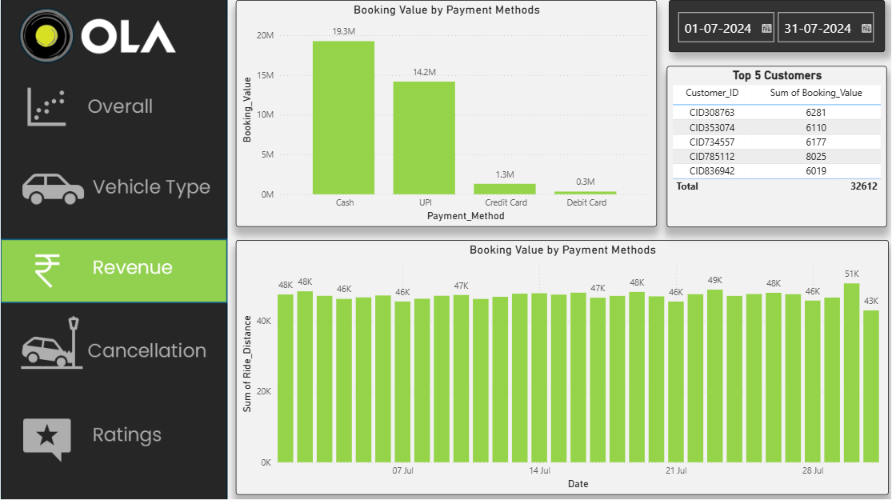

The dashboard page shown, as its layout file describes it:
{"tool":"powerbi","page":{"name":"Revenue","canvas":[1280,720],"ordinal":2},"visuals":[{"type":"actionButton","box":[0,107.4,324.5,91.7],"z":0},{"type":"actionButton","box":[0,219.6,324.5,91.7],"z":1000},{"type":"actionButton","box":[0,448.8,324.5,91.7],"z":2000},{"type":"actionButton","box":[1.2,575.5,324.5,91.7],"z":3000},{"type":"columnChart","title":"Booking Value by Payment Methods","fields":{"Category":["July.Payment_Method"],"Y":["Sum(July.Booking_Value)"]},"box":[335.7,0,601.4,324.3],"z":4000},{"type":"columnChart","title":"Booking Value by Payment Methods","fields":{"Y":["Sum(July.Ride_Distance)"],"Category":["July.Date"]},"box":[335.7,342.9,932.9,364.3],"z":5000},{"type":"slicer","title":"Date","fields":{"Values":["July.Date"]},"box":[954.3,0,308.6,74.3],"z":6000},{"type":"tableEx","title":"Top 5 Customers","fields":{"Values":["July.Customer_ID","Sum(July.Booking_Value)"]},"box":[951.4,94.3,314.3,230],"z":7000}]}

Visuals, with their boxes in screenshot pixels (x1, y1, x2, y2), scaled from the page's 1280x720 canvas onto the 892x500 screenshot:
actionButton: x1=0 y1=75 x2=226 y2=138
actionButton: x1=0 y1=152 x2=226 y2=216
actionButton: x1=0 y1=312 x2=226 y2=375
actionButton: x1=1 y1=400 x2=227 y2=463
"Booking Value by Payment Methods" columnChart: x1=234 y1=0 x2=653 y2=225
"Booking Value by Payment Methods" columnChart: x1=234 y1=238 x2=884 y2=491
"Date" slicer: x1=665 y1=0 x2=880 y2=52
"Top 5 Customers" tableEx: x1=663 y1=65 x2=882 y2=225
